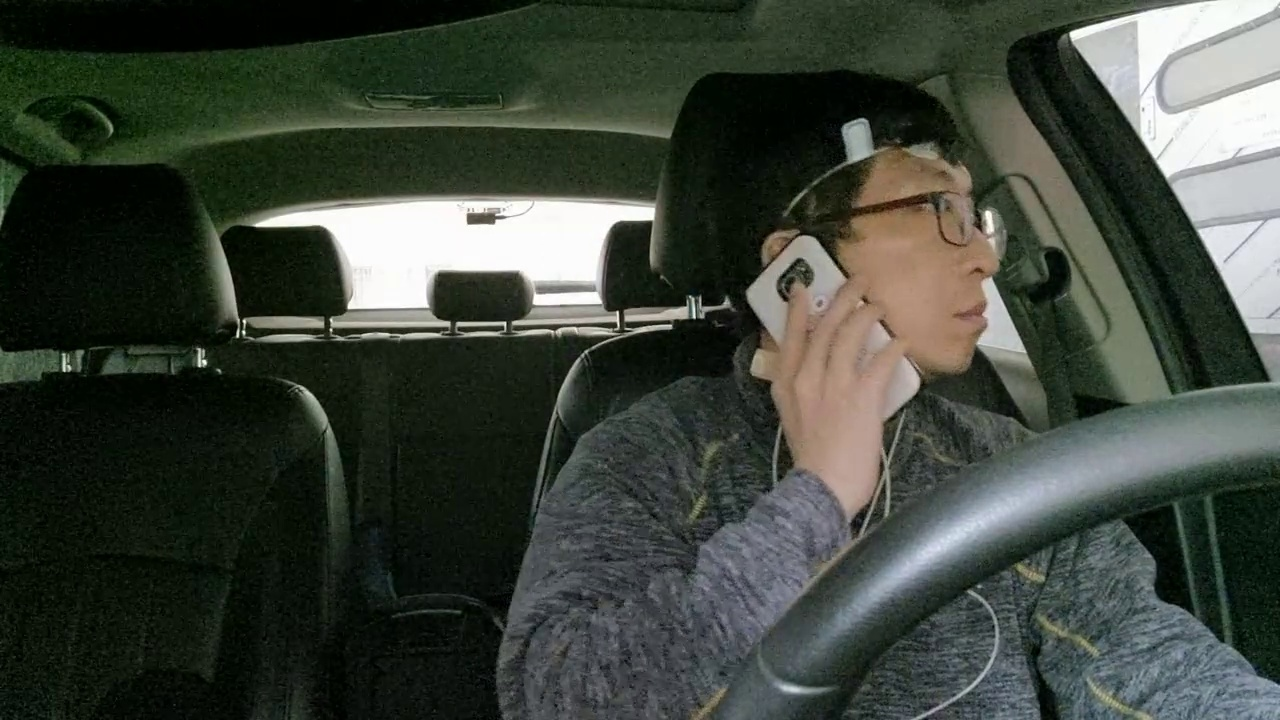phone: (721, 217, 947, 462)
